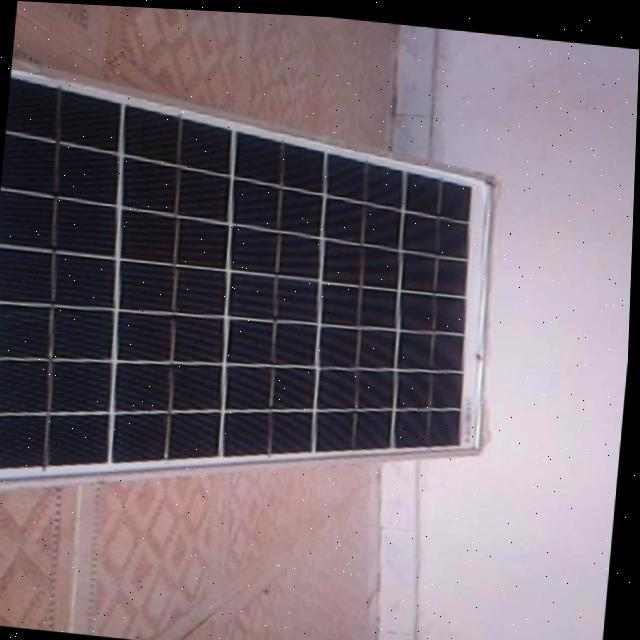Normal Solar Panel: (0, 61, 515, 546)
